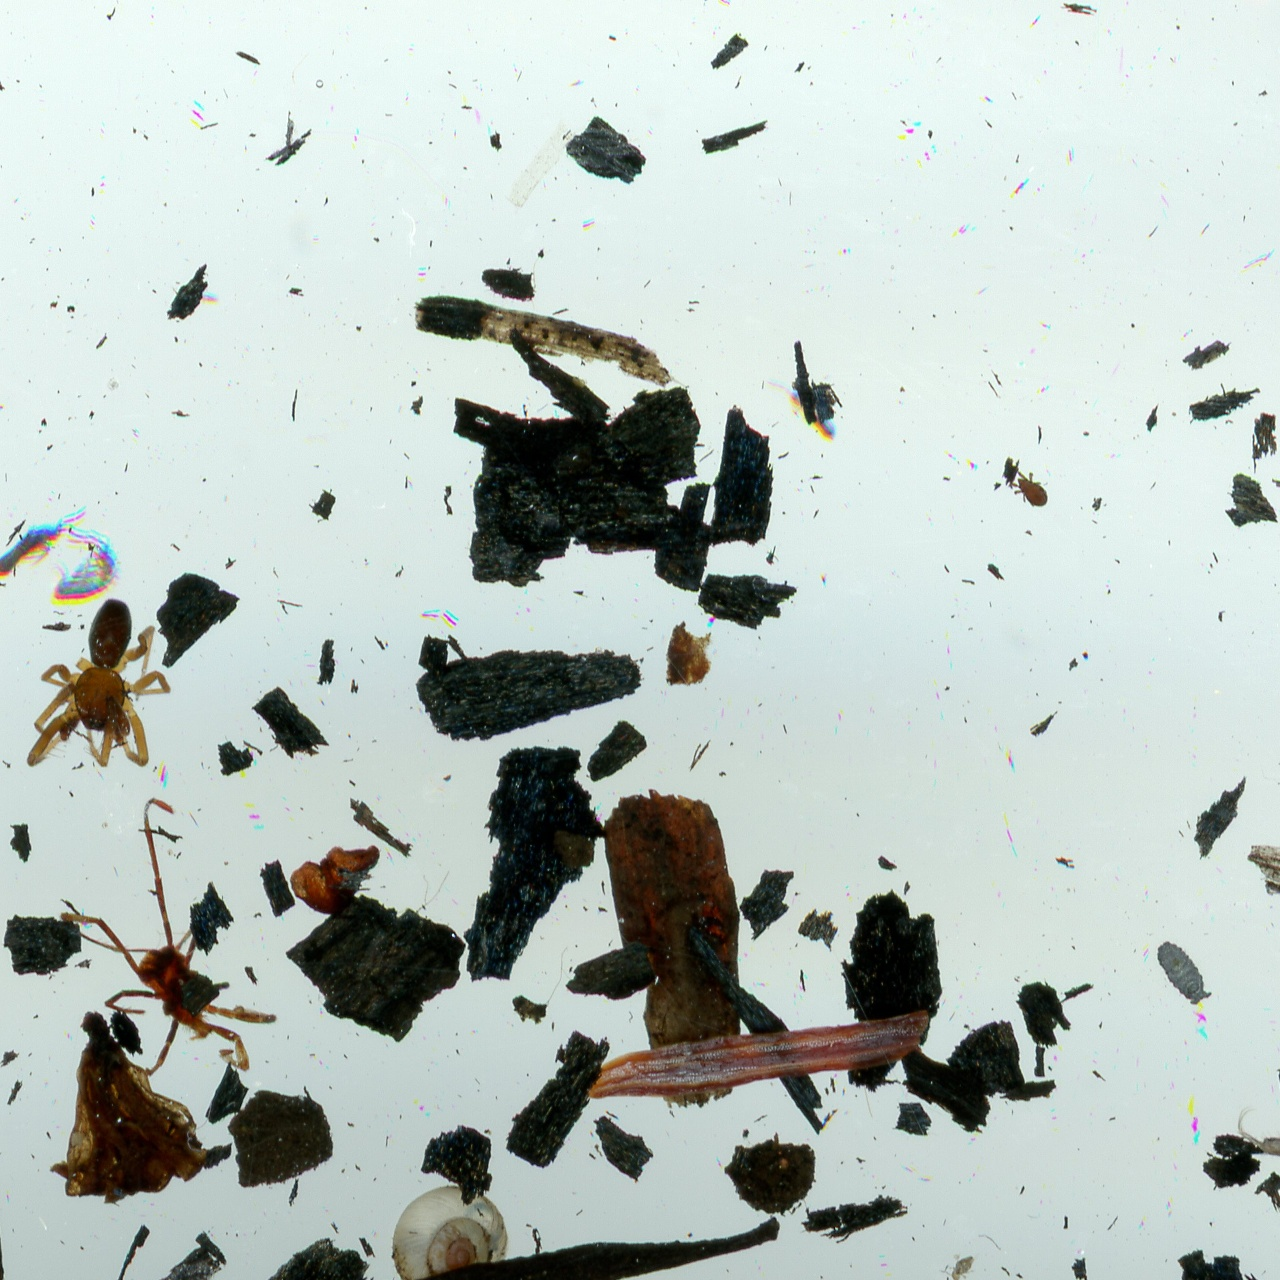arthropod: (57, 792, 280, 1077), (23, 598, 173, 770), (375, 1166, 529, 1280), (0, 483, 95, 605), (50, 525, 127, 613), (1148, 928, 1219, 1015), (768, 375, 844, 444), (1234, 1104, 1280, 1198), (1009, 468, 1050, 510), (939, 1251, 979, 1280)
